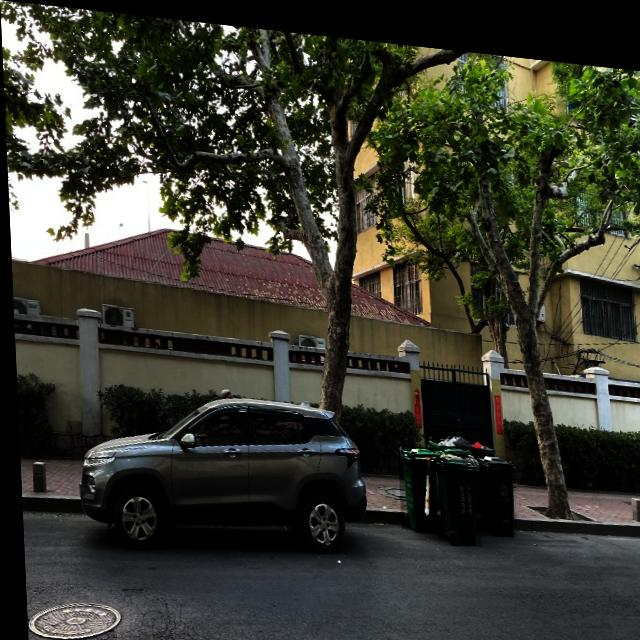garbage_bin: (472, 442, 513, 525)
overflow: (431, 435, 477, 535), (394, 435, 435, 524)
